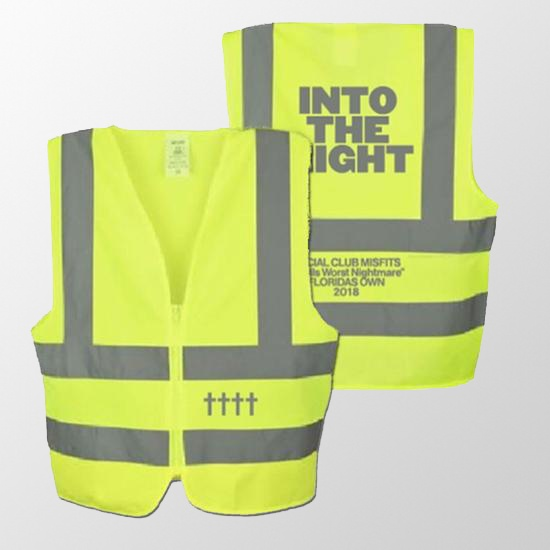safety vest: (38, 120, 331, 513), (216, 30, 488, 383)
